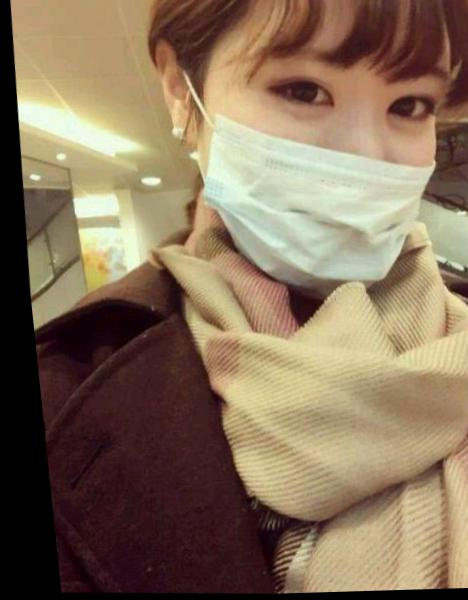OK: (184, 6, 468, 303)
